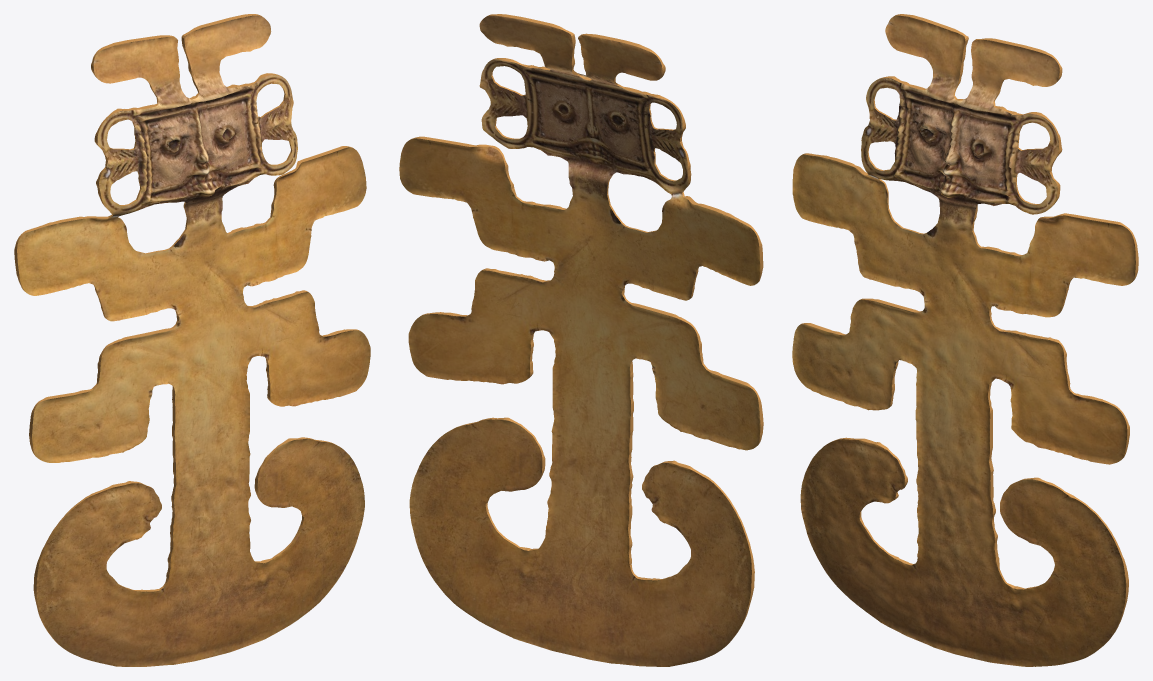
Rendered from colgante_tolima.glb.
The picture shows the model from 3 angles, left to right: view 1: azimuth 30°, elevation 25°; view 2: azimuth 150°, elevation 25°; view 3: azimuth 330°, elevation 25°; orthographic projection. The views are drawn at different scales.
Visible parts, largest first — view 1: solgante_tolima; view 2: solgante_tolima; view 3: solgante_tolima.
Boxes of the visible parts, x1,y1,x2,y2 form: solgante_tolima: (14,14,370,666); solgante_tolima: (399,14,763,666); solgante_tolima: (792,14,1138,666).
Bounding box in the file's own units: 5.12 × 8.7 × 0.8395.
1 material, 1 textured.
